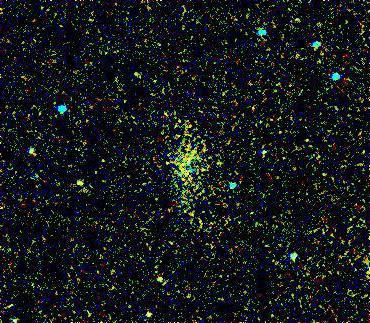star: (63, 165, 93, 195)
